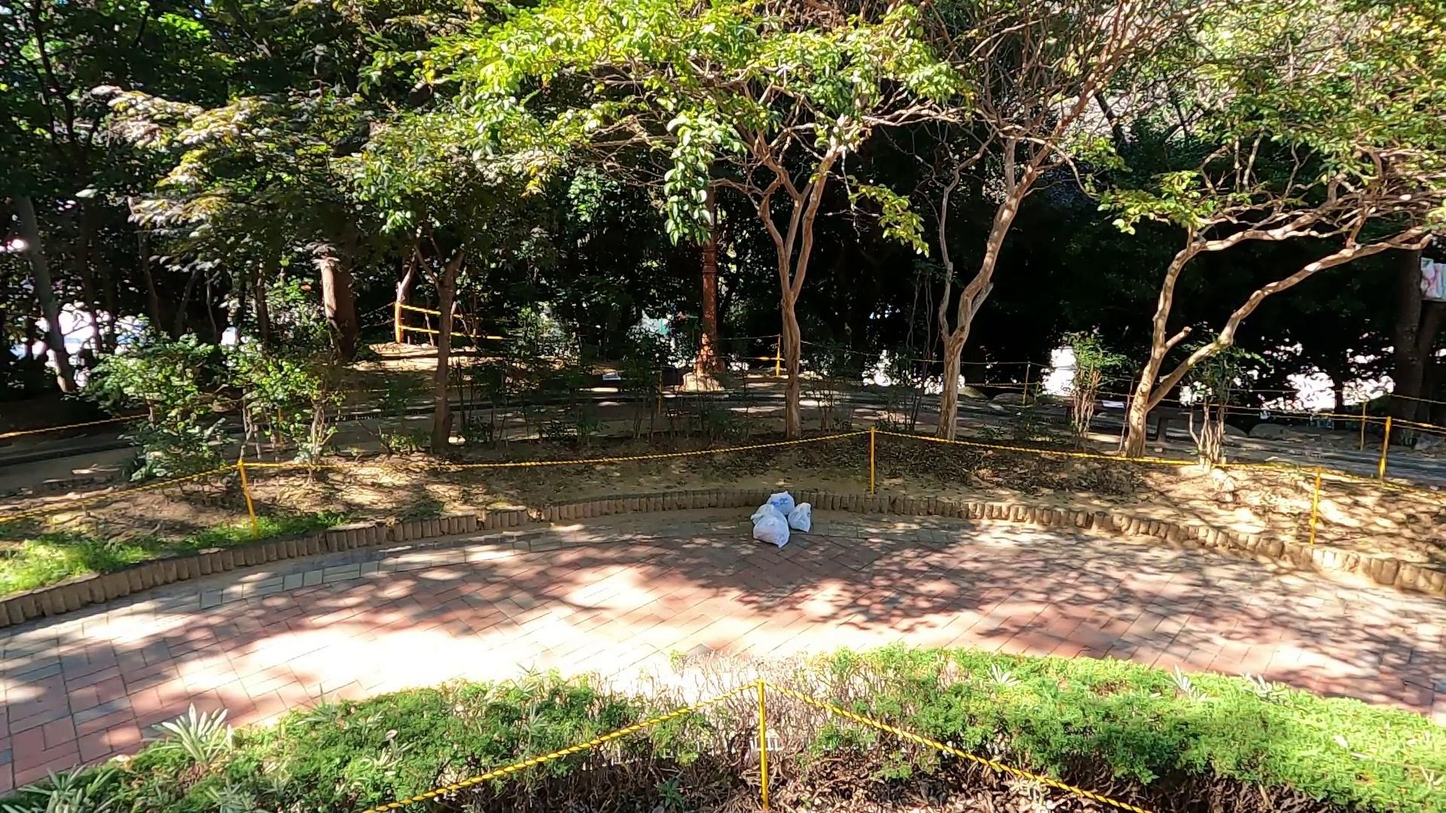trash: (749, 503, 789, 541), (750, 512, 790, 549), (761, 488, 799, 518), (787, 498, 812, 536)
